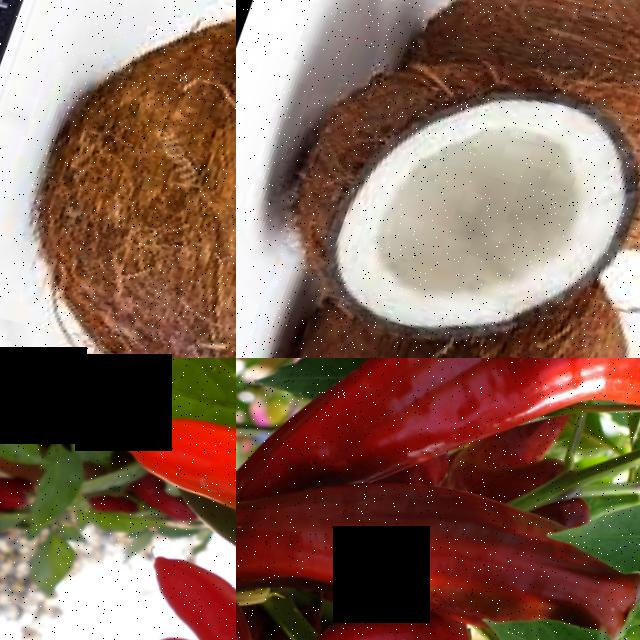chilli: (287, 358, 640, 586), (236, 358, 499, 640), (113, 371, 236, 595), (100, 530, 236, 640)
coconut: (247, 7, 640, 358), (0, 0, 236, 358), (393, 0, 640, 209), (236, 258, 635, 358)
